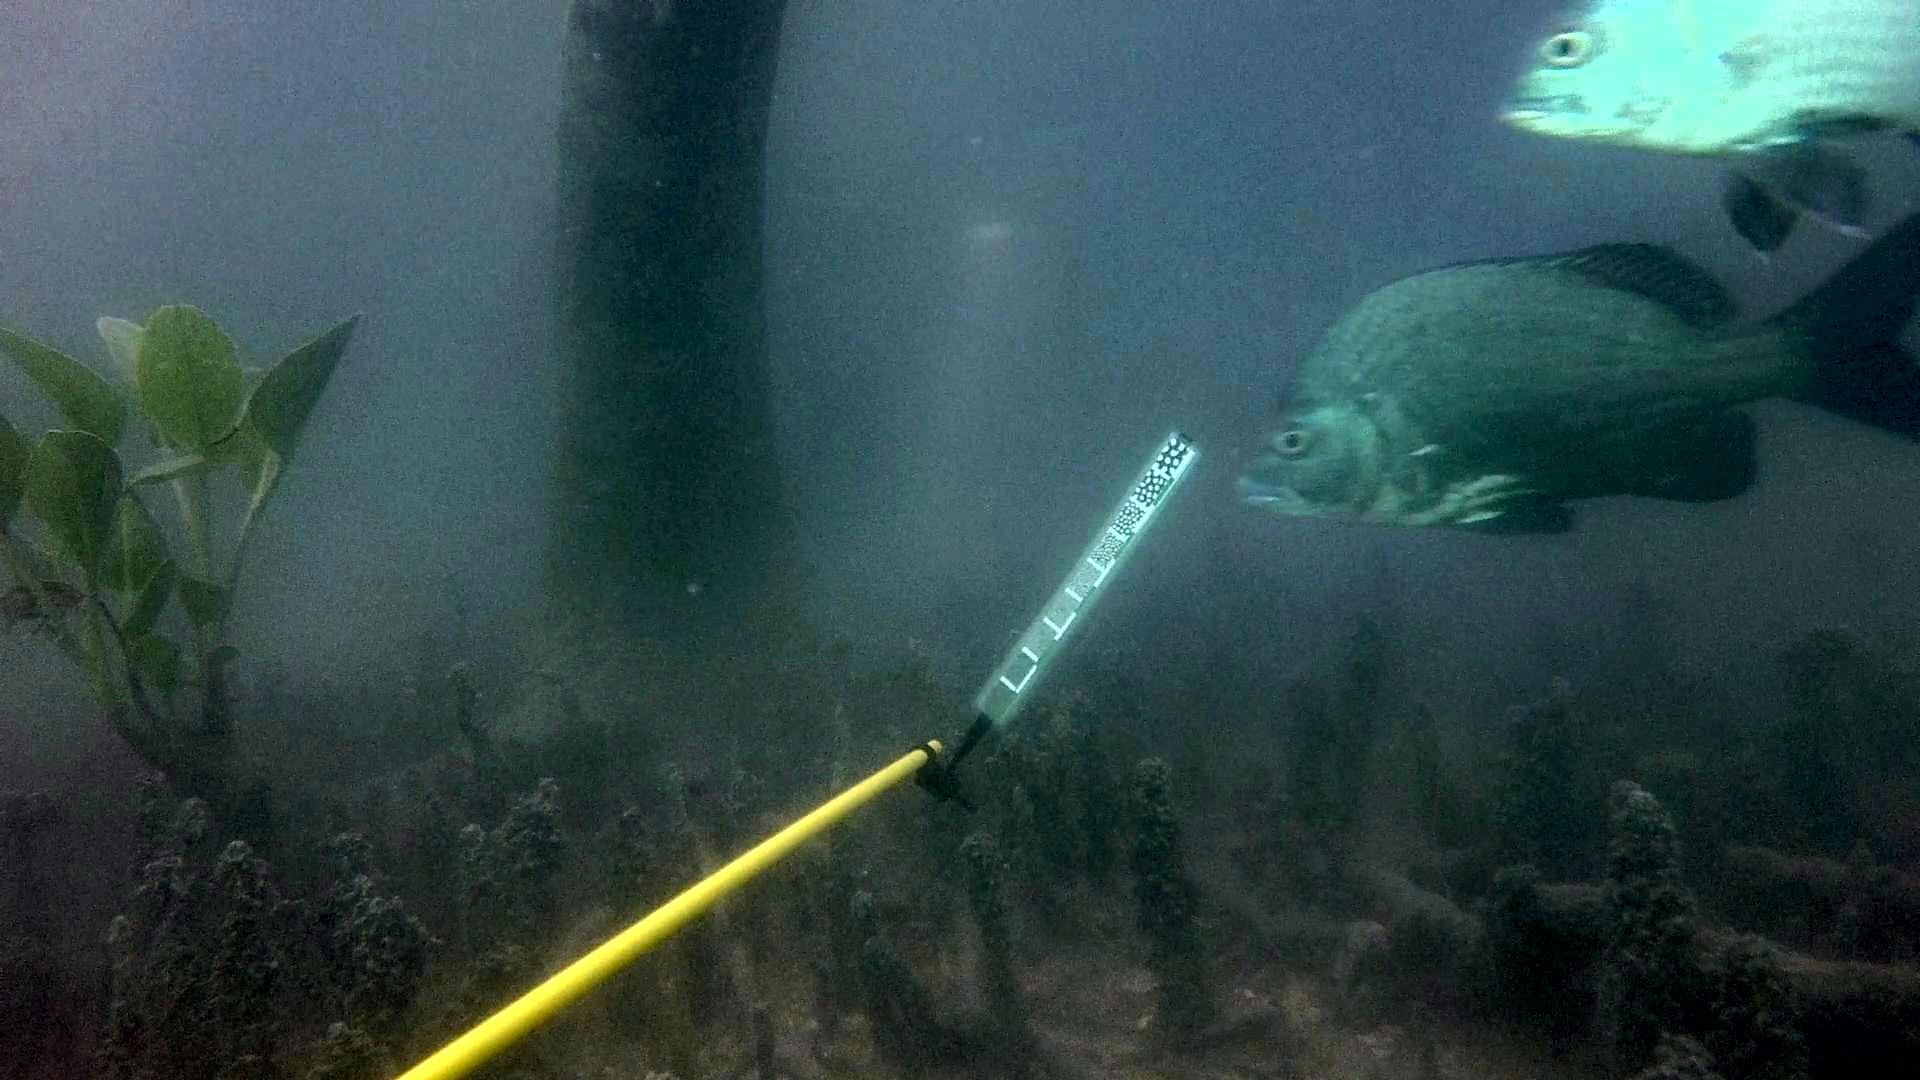acanthopagrus palmaris: (1221, 208, 1920, 551), (1481, 0, 1918, 266)
